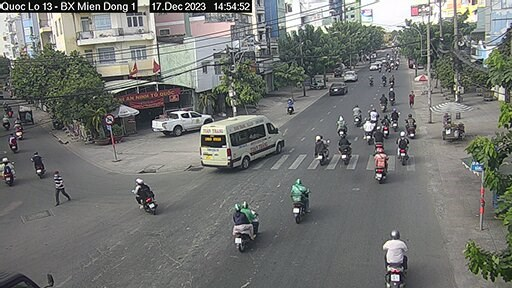car: (173, 113, 286, 168), (142, 107, 210, 133), (324, 77, 358, 101)
motorbike: (130, 175, 170, 222), (229, 196, 263, 247), (277, 170, 310, 222), (388, 228, 409, 288), (308, 134, 330, 171), (373, 152, 389, 186)
